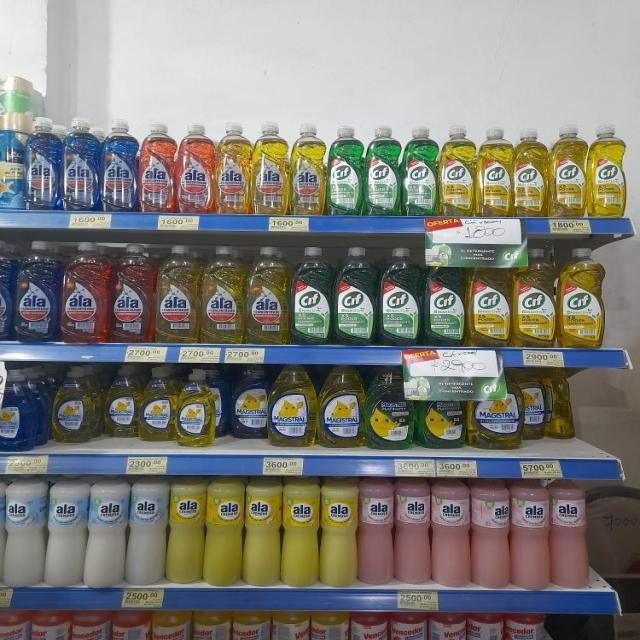ala_conc_amarillo: (200, 244, 245, 344), (246, 244, 290, 345), (155, 244, 198, 344), (252, 120, 289, 215), (216, 120, 251, 213), (291, 122, 325, 216)
ala_conc_azul: (15, 239, 59, 343), (61, 115, 100, 212), (101, 116, 137, 212), (25, 116, 61, 210), (0, 238, 14, 341)
ala_conc_rojo: (61, 240, 109, 345), (111, 242, 153, 344), (176, 122, 215, 214), (139, 121, 175, 212)
ala_crem_amarillo: (205, 480, 243, 588), (282, 480, 319, 588), (321, 479, 357, 588), (244, 480, 280, 588), (167, 481, 204, 586)
ala_crem_blanco: (4, 478, 45, 588), (86, 481, 126, 588), (46, 480, 85, 588), (128, 482, 166, 586)
ala_crem_rosado: (550, 484, 592, 591), (431, 479, 470, 589), (471, 481, 510, 590), (511, 482, 549, 591), (358, 479, 394, 587), (395, 479, 430, 586)
cif_conc_bot_amarilla: (558, 246, 606, 348), (513, 245, 557, 348), (468, 251, 511, 347), (588, 123, 626, 217), (550, 124, 587, 216), (440, 124, 476, 216), (478, 125, 512, 217), (514, 126, 548, 217)
cif_conc_botella_verde: (334, 245, 377, 345), (423, 246, 465, 346), (379, 247, 421, 346), (292, 244, 332, 345), (402, 124, 438, 216), (327, 124, 363, 216), (365, 124, 400, 216)
magistral_con_amarillo: (269, 363, 316, 447), (318, 364, 364, 448), (52, 366, 101, 444), (177, 368, 220, 448), (140, 365, 175, 443), (104, 364, 138, 440)
magistral_con_azul: (0, 367, 49, 452)
vencedor: (506, 612, 552, 640), (150, 610, 190, 640), (29, 610, 69, 640), (110, 610, 149, 640), (70, 610, 109, 640), (191, 611, 231, 640), (232, 611, 270, 640), (311, 611, 349, 640), (390, 611, 427, 640), (351, 611, 388, 640), (273, 611, 309, 640), (467, 612, 504, 640), (429, 612, 465, 640), (0, 610, 29, 640)
